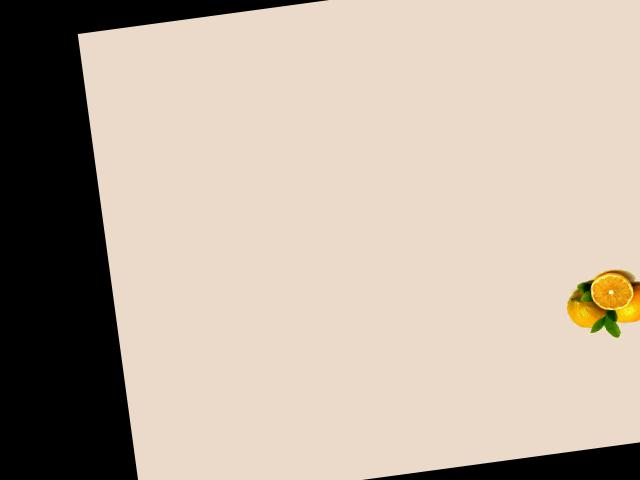lemon: (561, 282, 614, 334)
